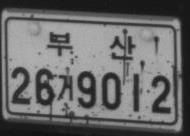0: (100, 70, 121, 110)
1: (127, 72, 146, 112)
2: (151, 73, 171, 114), (11, 66, 30, 105)
6: (34, 67, 55, 106)
9: (76, 70, 97, 109)
거: (56, 74, 74, 101)
부산_D: (46, 30, 135, 60)
